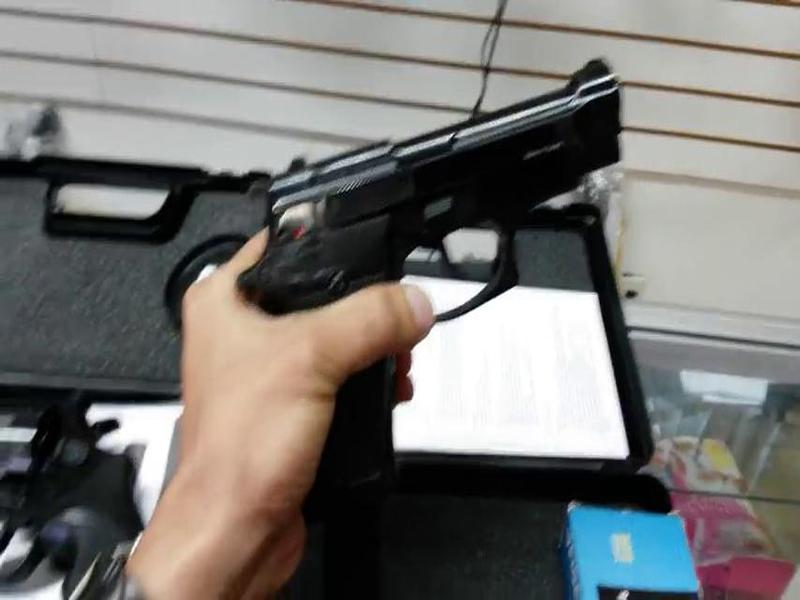Pistola: (218, 59, 645, 494)
